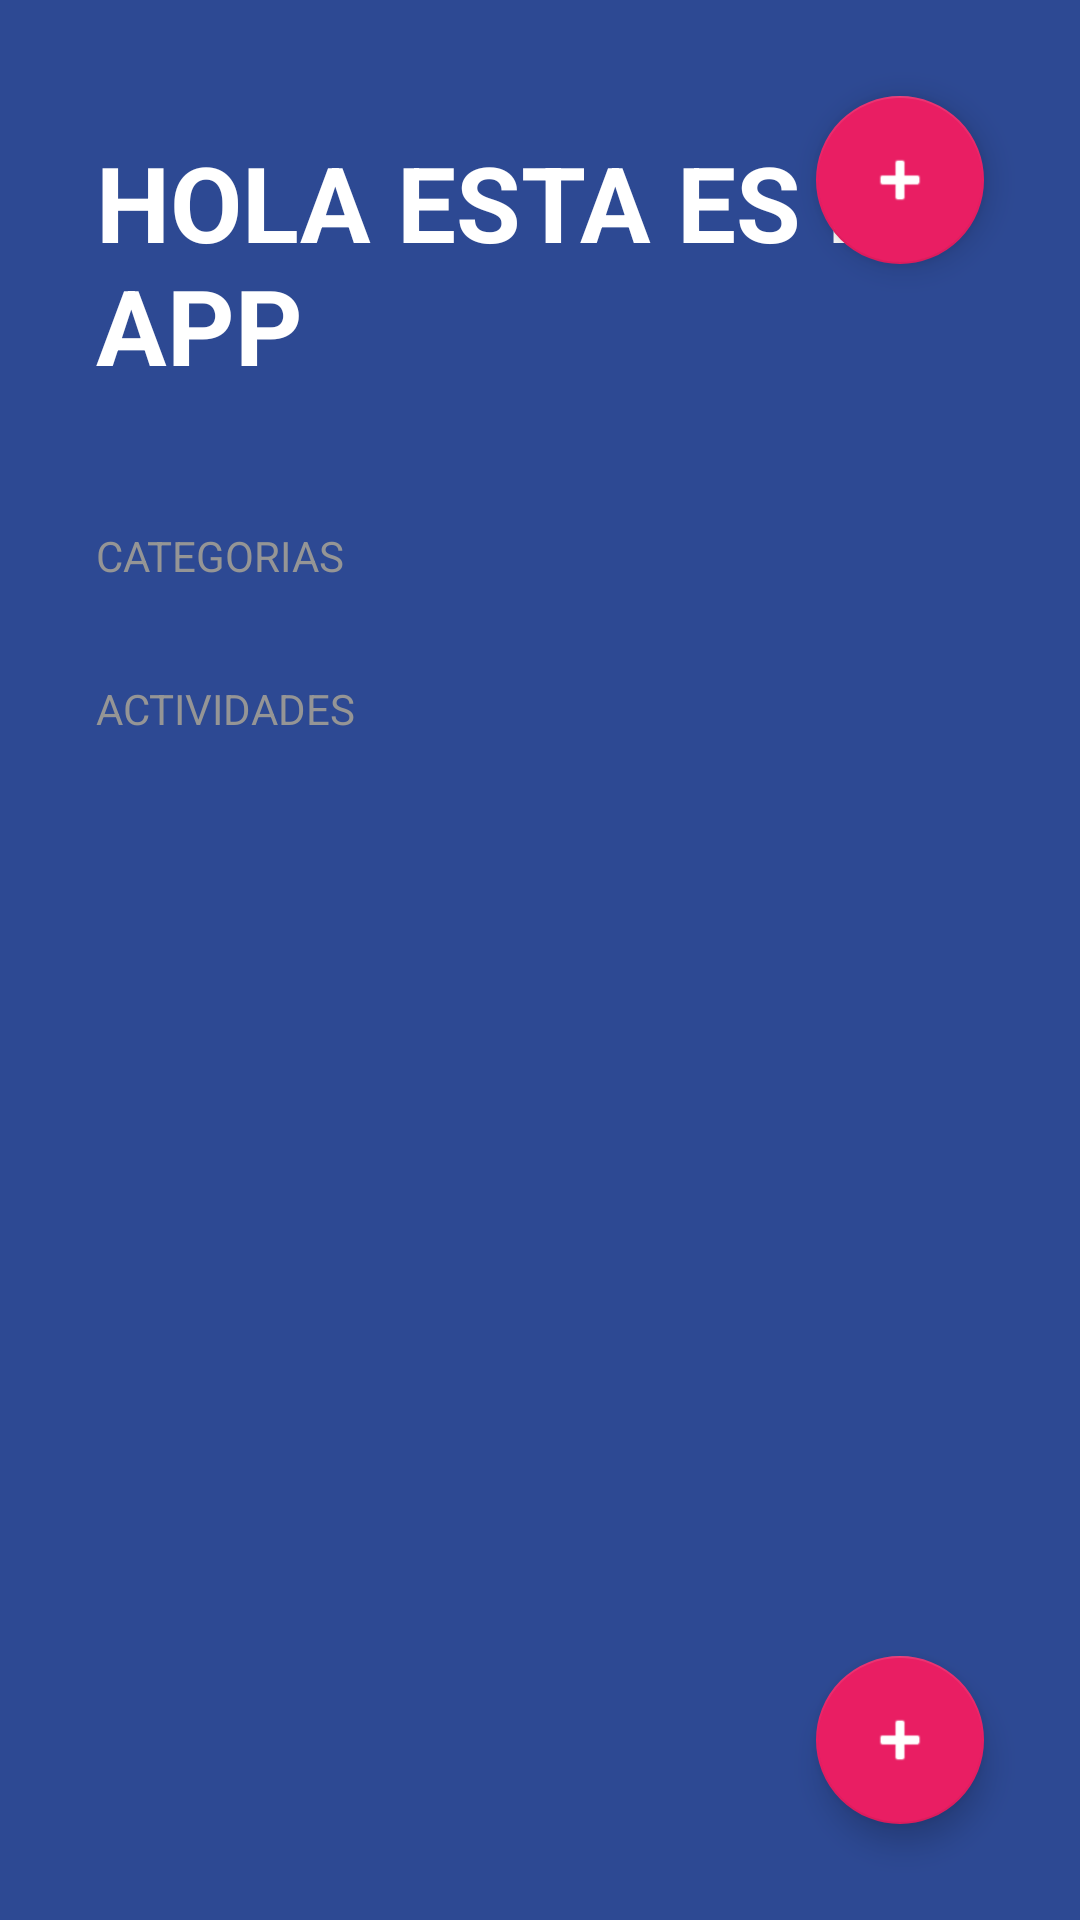

Icon click points for this 1080*1920 phone screenshot, format [x,y]:
add: [900,180], [900,1740]
